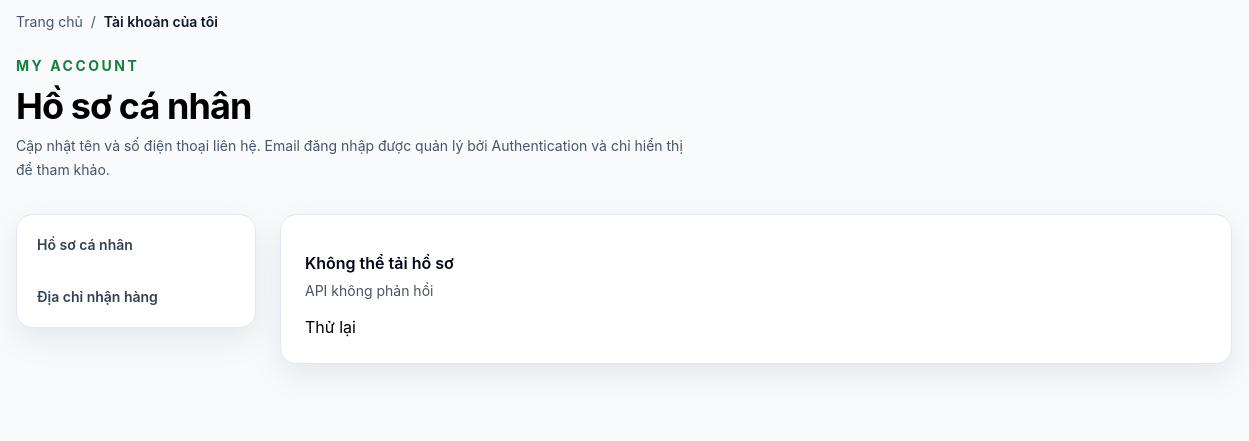
Test case: AccountProfilePage › renders a retryable authoritative load error
Expected: the heading "Không thể tải hồ sơ" is shown, left=305, top=251, right=454, bottom=275
Click the button "Thử lại": click(330, 327) left=305, top=315, right=356, bottom=339
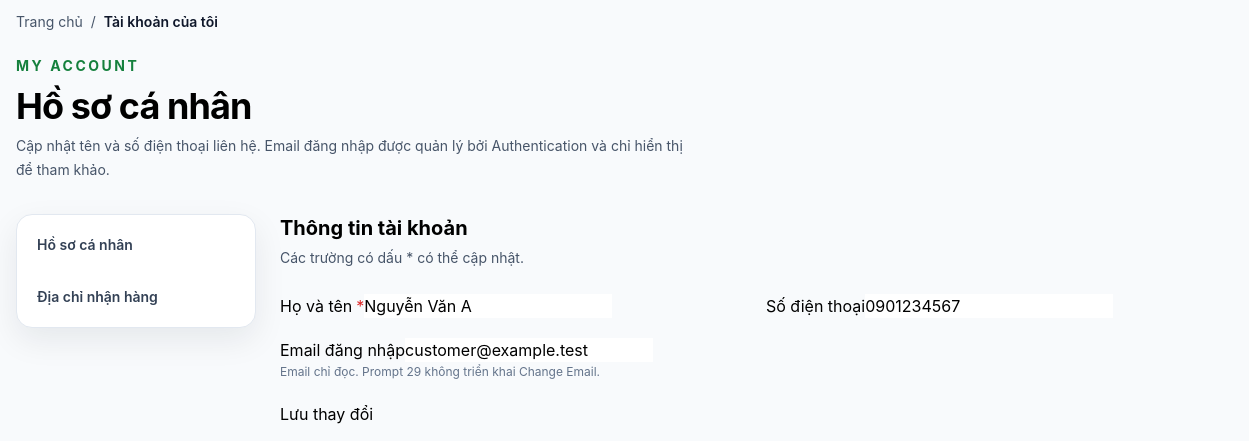
Result: the field showing "Nguyễn Văn A" is shown at left=364, top=294, right=612, bottom=318
